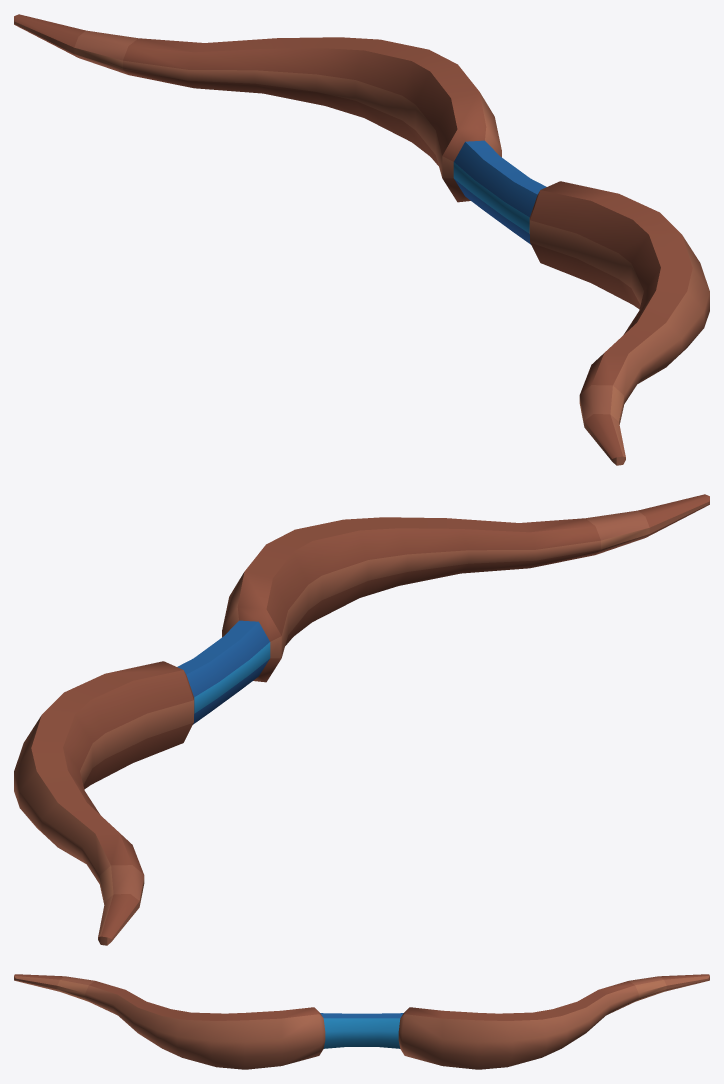
Rendered from bow.glb.
3 renders of one model, top to bottom at view 1: azimuth 30°, elevation 25°; view 2: azimuth 150°, elevation 25°; view 3: azimuth 270°, elevation 25°, orthographic. The views are drawn at different scales.
Visible parts, largest first — view 1: bow; view 2: bow; view 3: bow.
Part boxes in pixels (left/top/right/bottom): bow: left=14, top=14, right=709, bottom=465; bow: left=14, top=494, right=709, bottom=945; bow: left=14, top=974, right=709, bottom=1069.
Size of the model in its own units: 0.4944 by 0.1556 by 1.98.
1 material, 1 textured.
